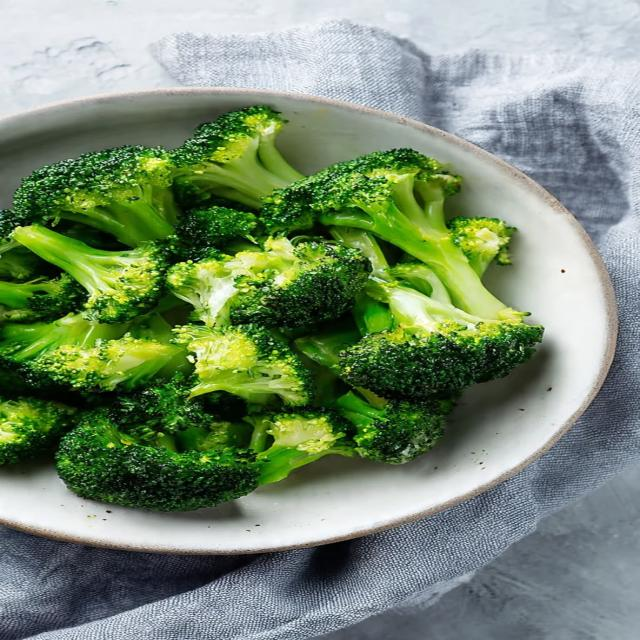broccoli: (261, 149, 522, 319), (340, 252, 543, 397), (340, 284, 543, 397), (57, 410, 259, 511), (167, 238, 371, 327), (14, 146, 178, 246), (13, 226, 168, 323), (0, 315, 186, 391), (171, 106, 303, 208), (174, 325, 313, 406), (110, 374, 251, 451), (328, 389, 453, 463), (30, 334, 186, 391), (335, 392, 453, 464), (245, 409, 354, 484), (0, 315, 127, 365), (111, 375, 212, 437), (0, 397, 76, 464), (175, 206, 258, 260), (447, 217, 516, 276), (0, 274, 86, 321), (330, 227, 393, 281), (0, 210, 40, 281), (389, 262, 451, 304), (55, 220, 126, 250), (0, 241, 41, 281)
